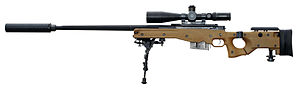Arma Real: (4, 6, 294, 83)
